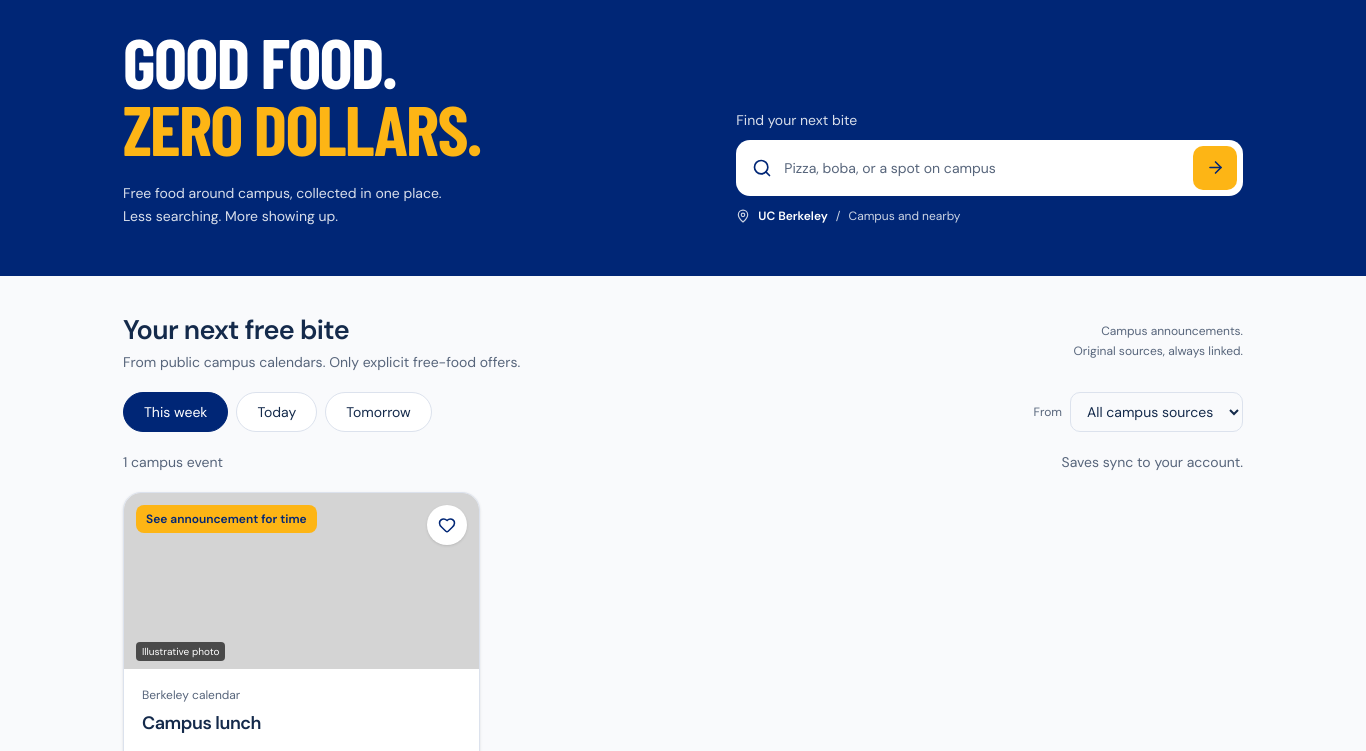
Scenario: does not write when the fresh account differs or cannot be verified
Click the button named "Save". click: (447, 525)
box: top-left (427, 505), bottom-right (467, 545)
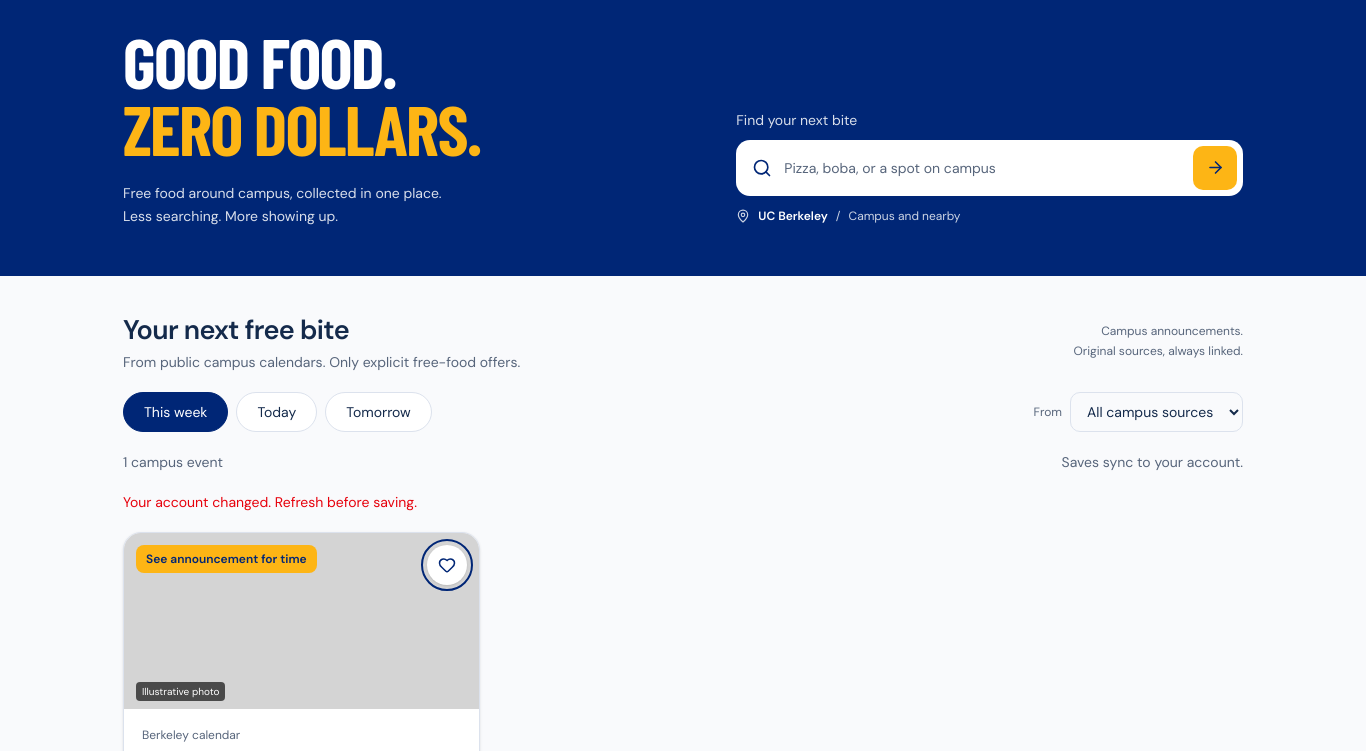
Check: the message shows "Your account changed", box top-left (123, 493), bottom-right (417, 511)
Click the button named "Save". click: (447, 565)
box: top-left (427, 545), bottom-right (467, 585)
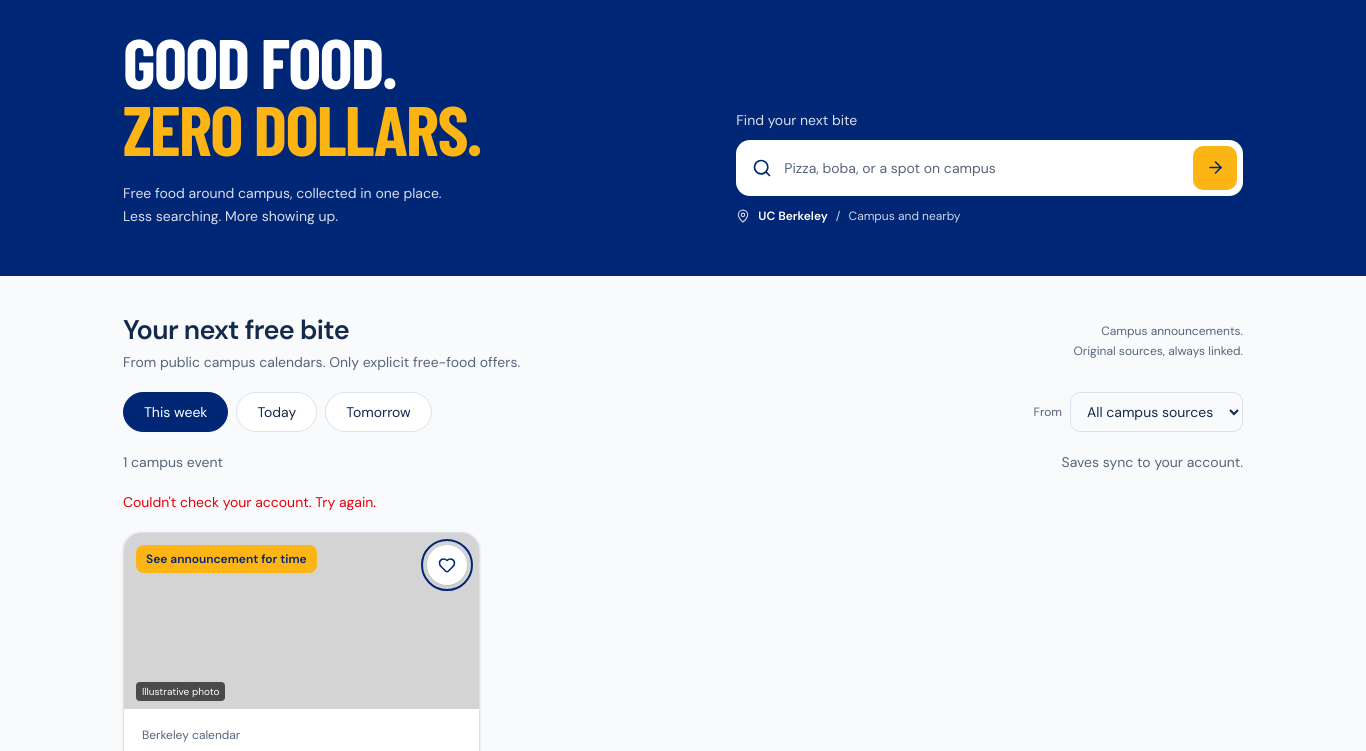
Check: the message shows "Couldn't check your account", box top-left (123, 493), bottom-right (376, 511)
